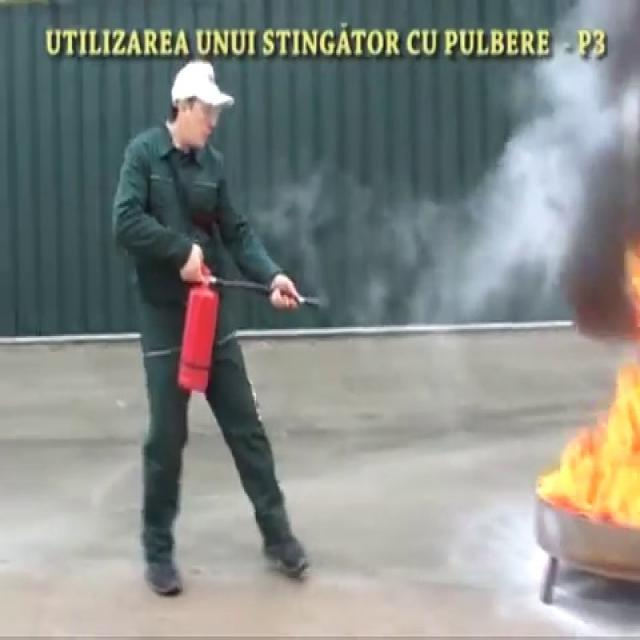Fire: (547, 354, 640, 546)
Smoke: (464, 0, 640, 308)
